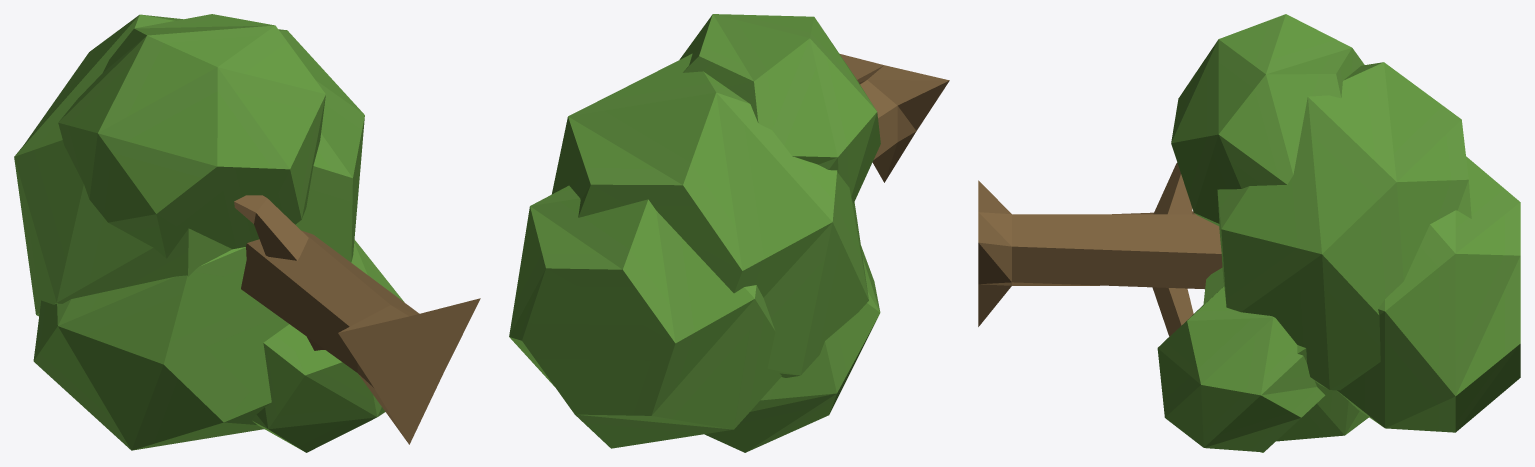
Rendered from VG_OakTree.fbx.
3 renders of one model, left to right at view 1: azimuth 30°, elevation 25°; view 2: azimuth 150°, elevation 25°; view 3: azimuth 270°, elevation 25°, orthographic. The views are drawn at different scales.
Parts seen in each view (by area): view 1: VG_OakTree LOD0; view 2: VG_OakTree LOD0; view 3: VG_OakTree LOD0.
Part boxes in pixels (x1,y1,x2,y2): VG_OakTree LOD0: (14, 14, 480, 452); VG_OakTree LOD0: (509, 14, 949, 452); VG_OakTree LOD0: (978, 14, 1520, 452).
Size of what is drawn, in the model's own units: 6.04 by 7.83 by 9.84.
